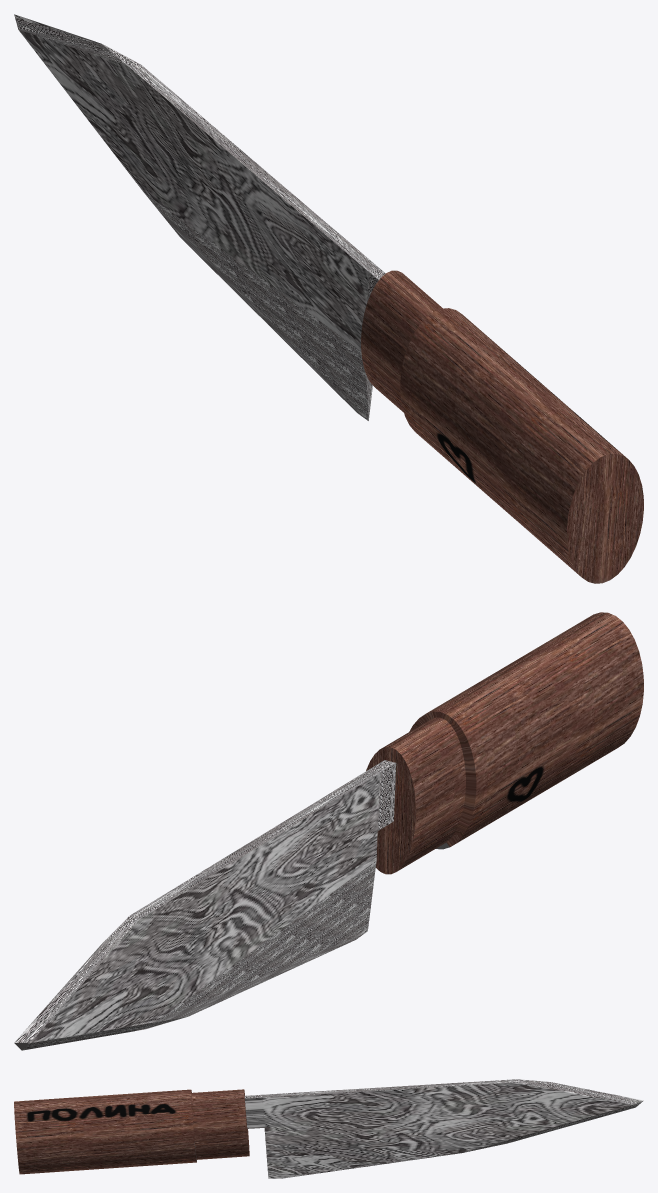
File: KNIFE.fbx
3 renders of one model, top to bottom at view 1: azimuth 30°, elevation 25°; view 2: azimuth 150°, elevation 25°; view 3: azimuth 270°, elevation 25°, orthographic. The views are drawn at different scales.
Visible parts, largest first — view 1: Нож; view 2: Нож; view 3: Нож.
Boxes of the visible parts, box(x1,y1,x2,y2) form: Нож: box(14, 14, 643, 583); Нож: box(14, 612, 643, 1050); Нож: box(14, 1079, 643, 1178).
Bounding box in the file's own units: 70.36 × 161 × 935.
Materials: 1 (1 with a texture image).
